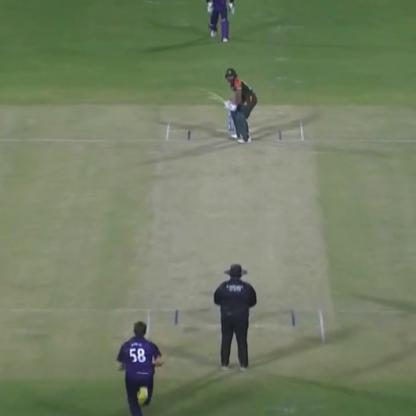bat: (200, 84, 237, 113)
pitch: (150, 116, 336, 348)
